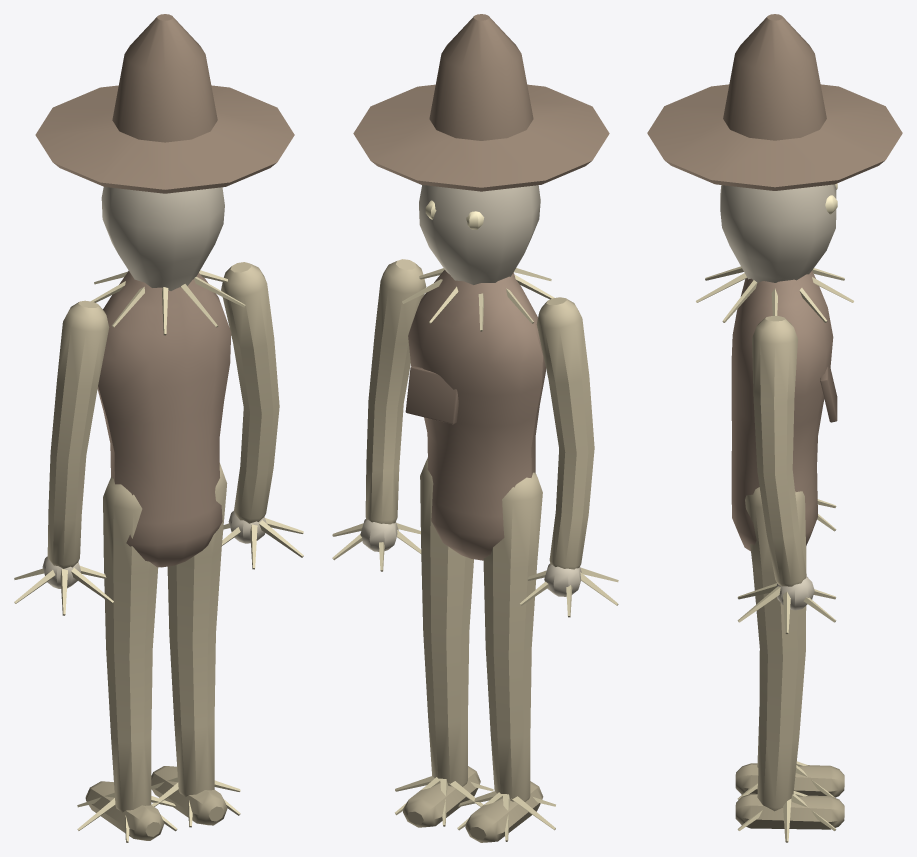
The model's file is strawling.gltf.
3 renders of one model, left to right at view 1: azimuth 30°, elevation 25°; view 2: azimuth 150°, elevation 25°; view 3: azimuth 270°, elevation 25°, orthographic.
Visible parts, largest first — view 1: Body, SwingA, SwingB, ArmL, ArmR; view 2: Body, SwingA, SwingB, ArmL, ArmR; view 3: Body, SwingB, ArmR, SwingA.
Part boxes in pixels (x1,y1,x2,y2): Body: (35, 14, 294, 567); SwingA: (77, 477, 177, 842); SwingB: (151, 463, 240, 827); ArmL: (14, 300, 113, 615); ArmR: (221, 262, 303, 569); Body: (353, 14, 609, 560); SwingA: (457, 472, 555, 842); SwingB: (395, 457, 493, 827); ArmL: (519, 297, 618, 617); ArmR: (332, 259, 426, 571); Body: (647, 14, 902, 551); SwingB: (735, 487, 844, 842); ArmR: (737, 316, 836, 633); SwingA: (735, 546, 844, 799).
Size of the model in its own units: 0.8236 by 2.19 by 0.64.
